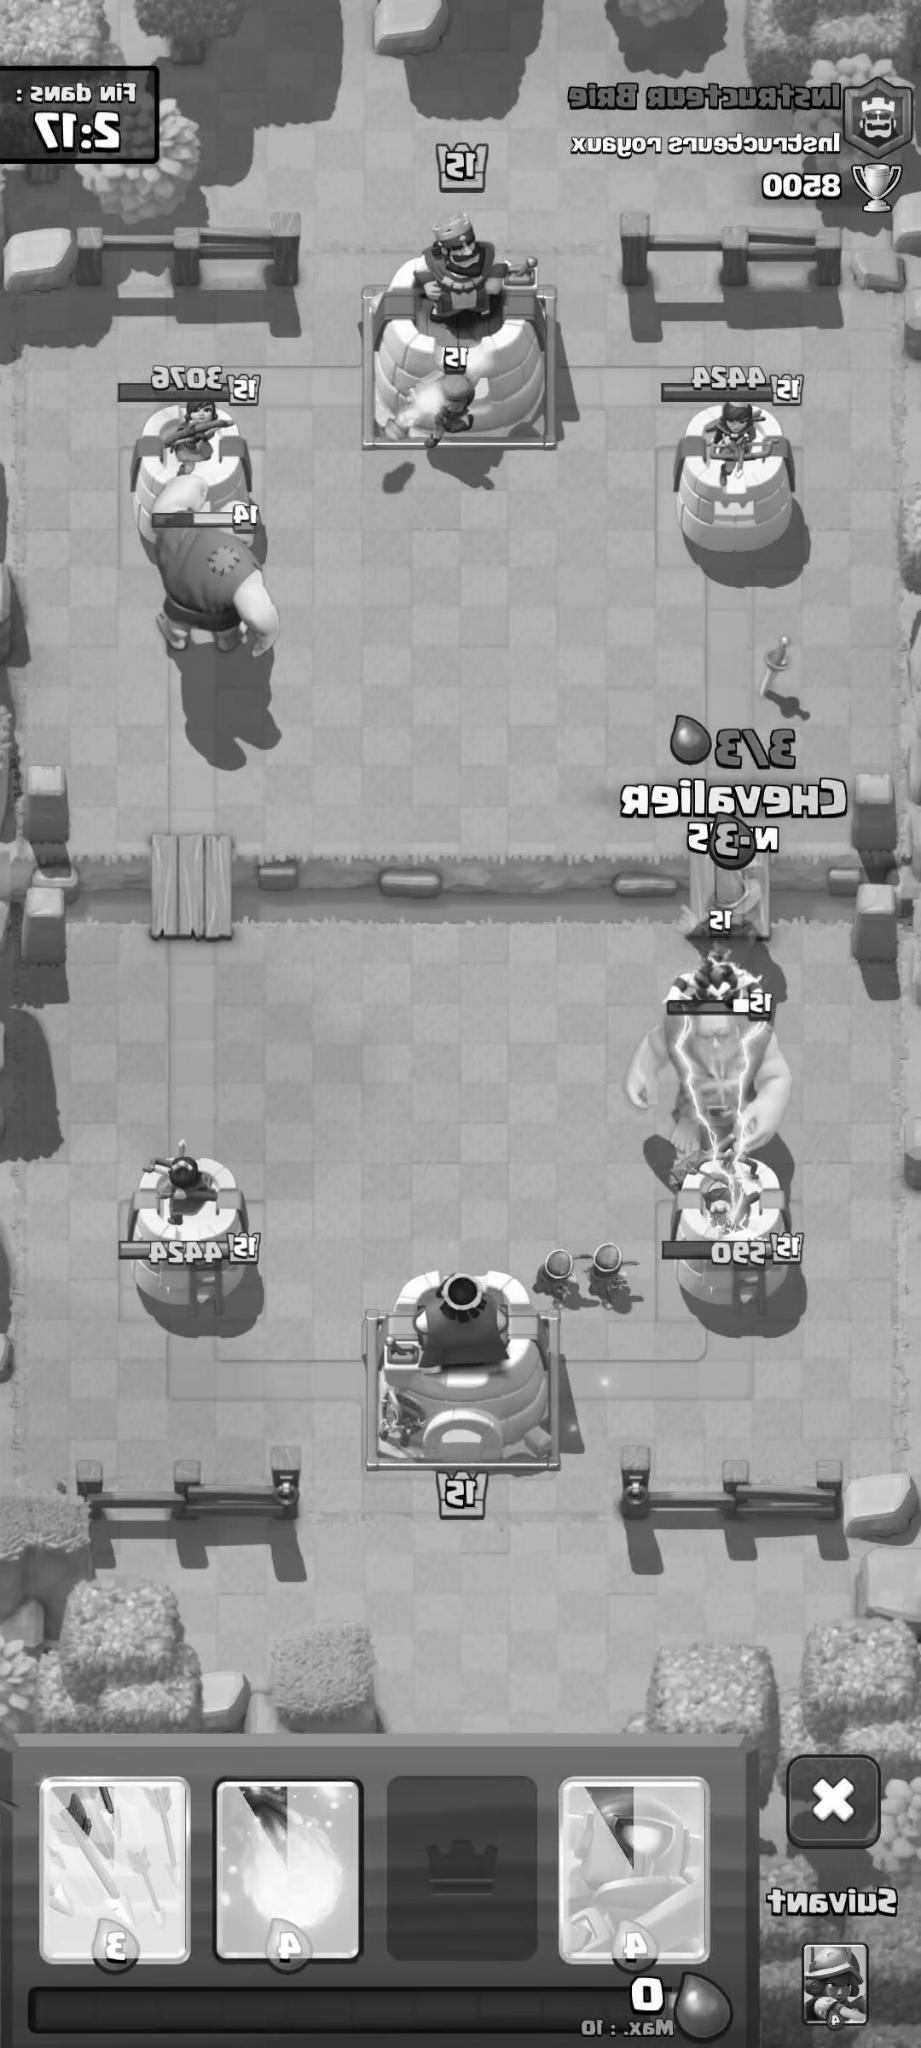archere: (583, 1238, 639, 1307), (532, 1249, 579, 1315)
gargouille: (688, 908, 738, 997)
geant: (622, 999, 788, 1169), (144, 507, 278, 661)
